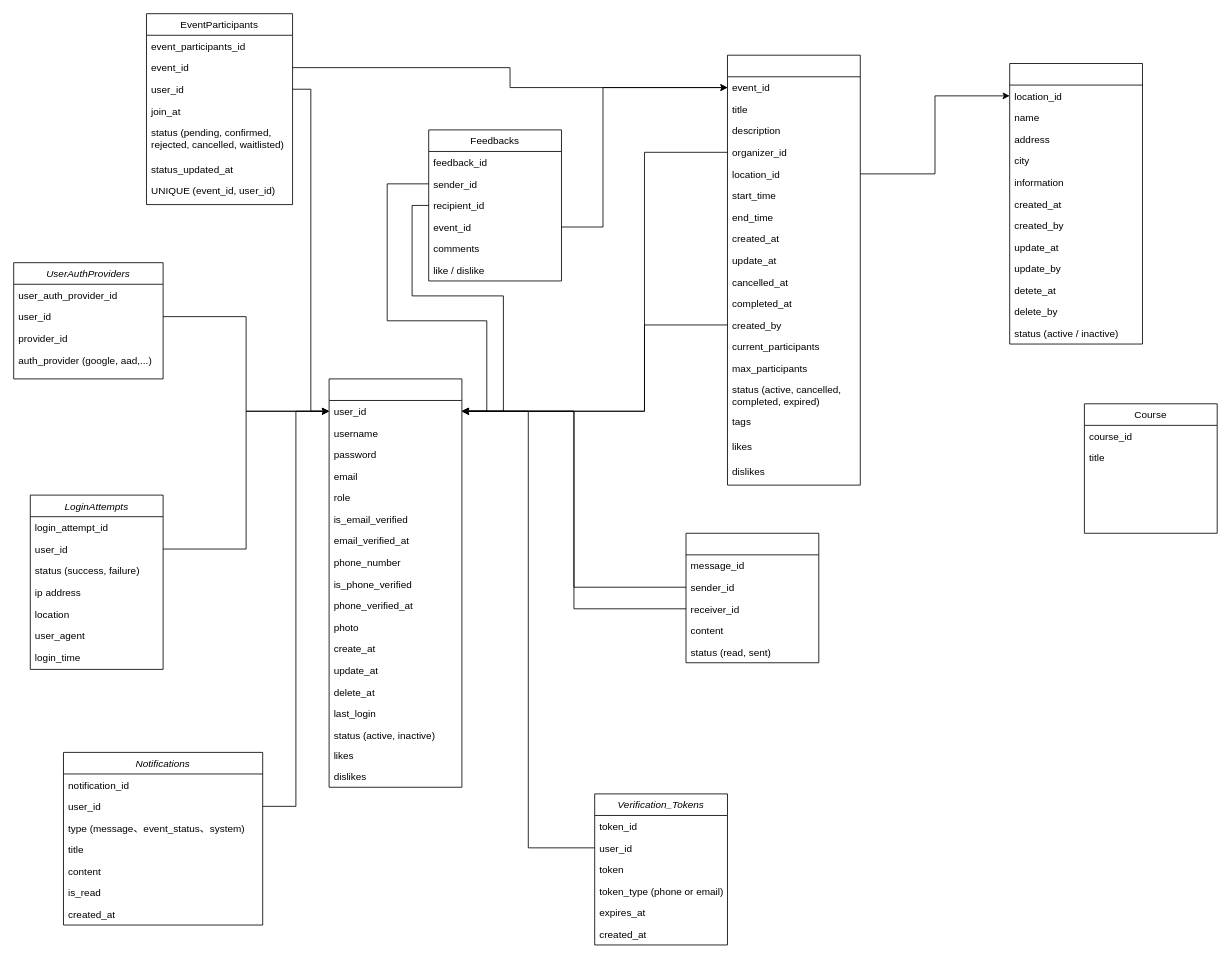
Image size: 1231x959. Some labels were removed from this diagram. The shapes that lost their labels are listed below. From the top down, each one's box as (x1, y1, x2, y2) in pixels, then its label:
(1009, 63, 1142, 344): Locations
(727, 54, 860, 485): Events
(328, 378, 462, 787): Users
(685, 532, 819, 663): Messages
